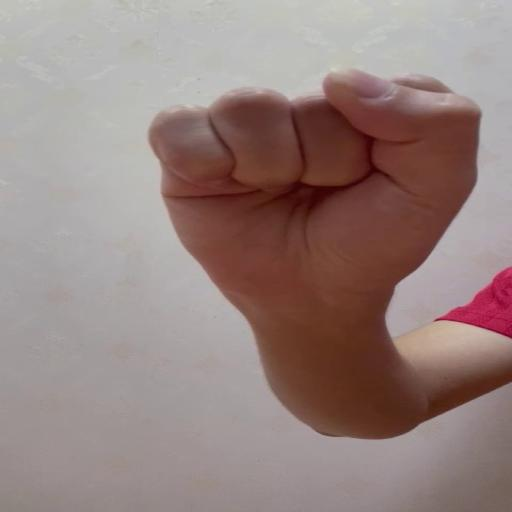fist: (146, 68, 484, 284)
